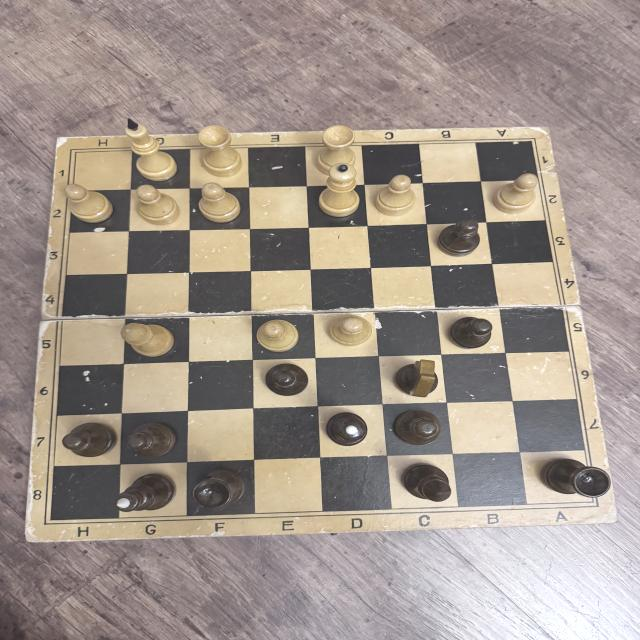black-bishop: (400, 462, 452, 503)
black-king: (111, 471, 175, 513)
black-knight: (395, 358, 442, 398)
black-pawn: (62, 422, 117, 457), (126, 422, 176, 459), (393, 410, 441, 446), (438, 219, 482, 256), (264, 363, 312, 396), (448, 317, 494, 350)
black-queen: (325, 412, 371, 447)
black-rook: (538, 455, 612, 500), (190, 471, 246, 512)
white-bishop: (119, 322, 175, 358)
white-king: (125, 116, 178, 184)
white-pawn: (131, 186, 182, 227), (64, 183, 114, 224), (197, 182, 243, 226), (492, 172, 537, 214), (377, 174, 416, 216), (327, 315, 372, 347), (257, 319, 298, 350)
white-queen: (319, 163, 360, 217)
white-rook: (312, 125, 359, 176), (199, 126, 242, 180)
